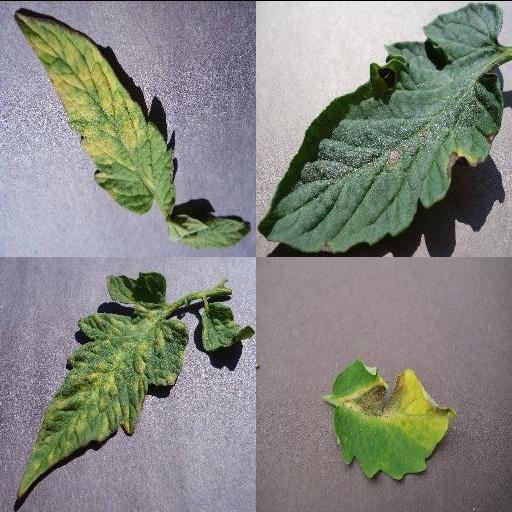Early Blight: (263, 0, 505, 250)
Late Blight: (331, 358, 455, 482)
Leaf Mold: (16, 270, 190, 498), (13, 13, 179, 211)
